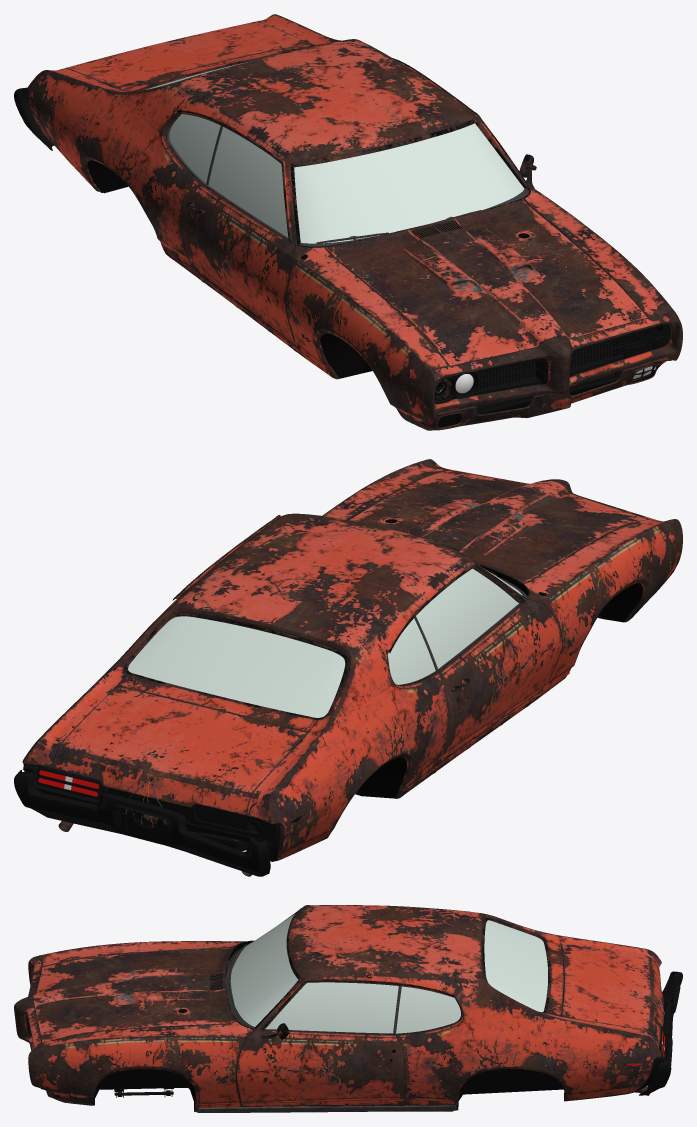
File: Pontiac_GTOTheJudgeClassic_1969_Body0a_lodB.fbx
3 renders of one model, top to bottom at view 1: azimuth 30°, elevation 25°; view 2: azimuth 150°, elevation 25°; view 3: azimuth 270°, elevation 25°, orthographic. The views are drawn at different scales.
Parts seen in each view (by area): view 1: Body0a_Swatch_Geo_lodB, Body0a_WindowTexture_Geo_lodB, Body0a_Details_Geo_lodB, Body0a_Base_Geo_lodB; view 2: Body0a_Swatch_Geo_lodB, Body0a_WindowTexture_Geo_lodB, Body0a_Details_Geo_lodB, Body0a_Base_Geo_lodB; view 3: Body0a_Swatch_Geo_lodB, Body0a_WindowTexture_Geo_lodB, Body0a_Base_Geo_lodB, Body0a_Details_Geo_lodB.
Boxes of the visible parts, box(x1,y1,x2,y2) form: Body0a_Swatch_Geo_lodB: box(28, 14, 682, 430); Body0a_WindowTexture_Geo_lodB: box(146, 62, 652, 393); Body0a_Details_Geo_lodB: box(14, 87, 670, 427); Body0a_Base_Geo_lodB: box(34, 27, 662, 425); Body0a_Swatch_Geo_lodB: box(22, 459, 682, 876); Body0a_WindowTexture_Geo_lodB: box(38, 568, 522, 796); Body0a_Details_Geo_lodB: box(14, 763, 287, 876); Body0a_Base_Geo_lodB: box(52, 470, 647, 861); Body0a_Swatch_Geo_lodB: box(14, 905, 664, 1112); Body0a_WindowTexture_Geo_lodB: box(230, 914, 665, 1065); Body0a_Base_Geo_lodB: box(33, 941, 642, 1111); Body0a_Details_Geo_lodB: box(26, 971, 682, 1101).
Bounding box in the file's own units: 1.96 × 1.21 × 5.19.
